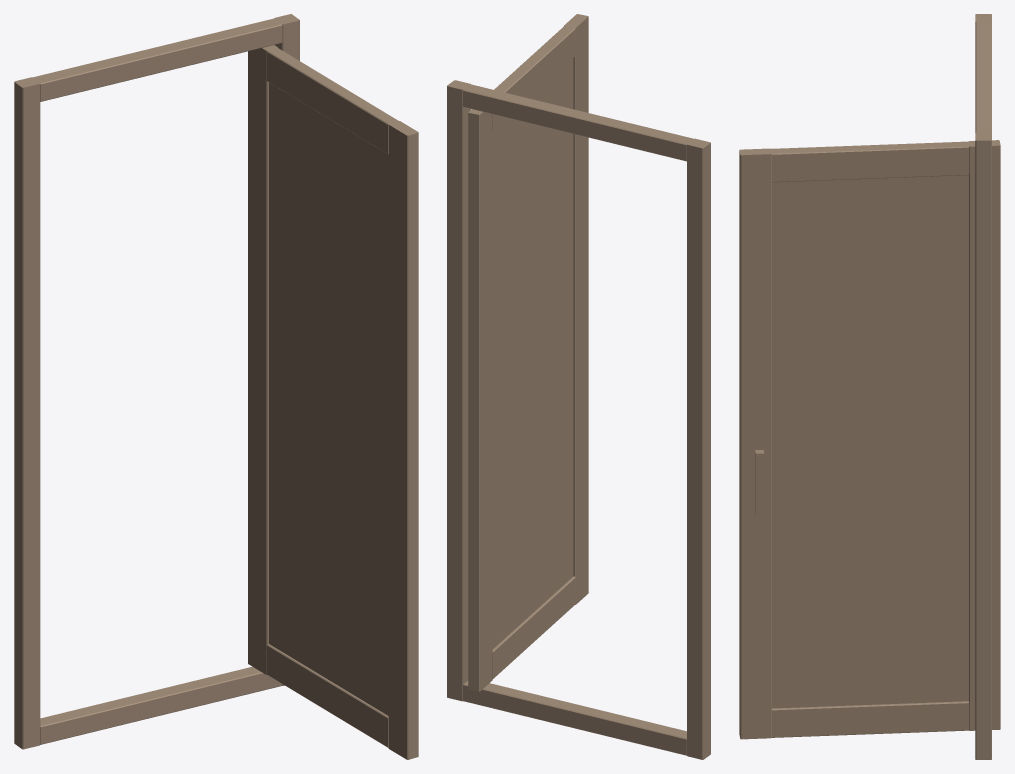
The model's file is bt-A200-1-ouvert-quartz-1019.glb.
The picture shows the model from 3 angles, left to right: view 1: azimuth 30°, elevation 25°; view 2: azimuth 150°, elevation 25°; view 3: azimuth 270°, elevation 25°; orthographic projection. The views are drawn at different scales.
Visible parts, largest first — view 1: structure, panneau; view 2: structure, panneau; view 3: panneau, structure.
Boxes of the visible parts, <box> form: structure: <box>14,14,418,759</box>; panneau: <box>269,82,388,715</box>; structure: <box>447,14,710,759</box>; panneau: <box>492,58,573,648</box>; panneau: <box>772,175,968,708</box>; structure: <box>739,14,1000,759</box>.
Bounding box in the file's own units: 0.9007 × 2.05 × 0.7841.
